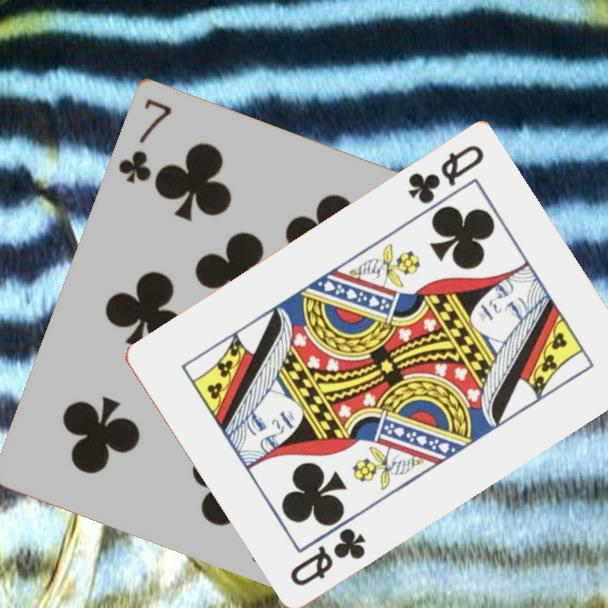c07: (114, 94, 175, 186)
c12: (404, 142, 487, 208), (286, 525, 369, 590)
